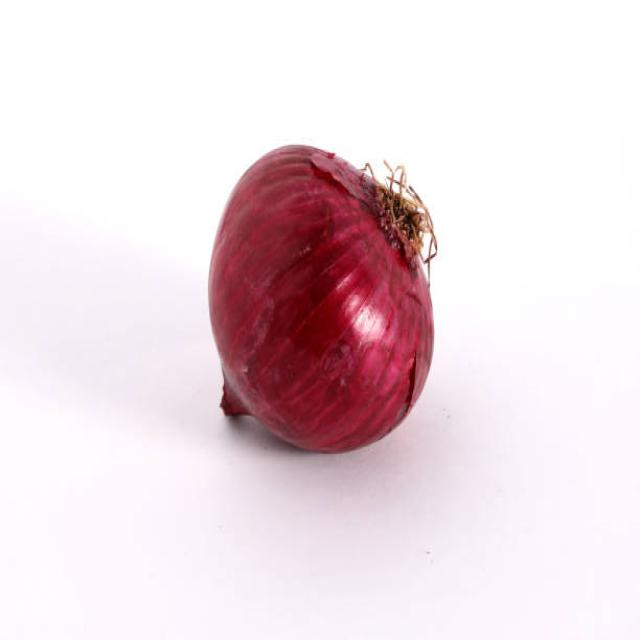onion: (204, 135, 434, 456)
